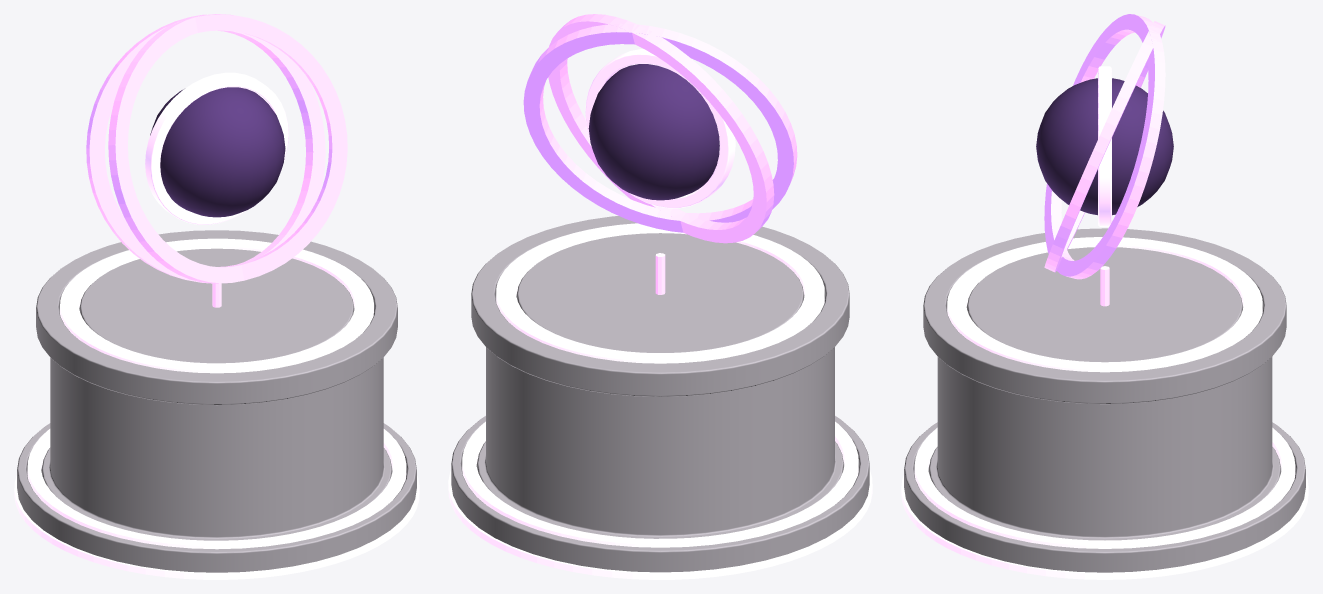
File: Lobby_PED_Gravity.fbx
3 renders of one model, left to right at view 1: azimuth 30°, elevation 25°; view 2: azimuth 150°, elevation 25°; view 3: azimuth 270°, elevation 25°, orthographic. The views are drawn at different scales.
Visible parts, largest first — view 1: PedestalMarble__Gravity, Glyph_GravityCore__Gravity, Glyph_GravityRing__GravityOrbit_1, Glyph_GravityRing__GravityOrbit_0, PedNeon_Gravity__Gravity_TopNeon, PedNeon_Gravity__Gravity_BaseNeon, Glyph_GravityHalo__GravityHalo, PedNeon_Gravity__Gravity_BaseNeonEdge; view 2: PedestalMarble__Gravity, Glyph_GravityCore__Gravity, Glyph_GravityRing__GravityOrbit_0, Glyph_GravityRing__GravityOrbit_1, PedNeon_Gravity__Gravity_TopNeon, PedNeon_Gravity__Gravity_BaseNeon, PedNeon_Gravity__Gravity_BaseNeonEdge, Glyph_GravityHalo__GravityHalo; view 3: PedestalMarble__Gravity, Glyph_GravityCore__Gravity, PedNeon_Gravity__Gravity_TopNeon, Glyph_GravityRing__GravityOrbit_0, PedNeon_Gravity__Gravity_BaseNeon, Glyph_GravityRing__GravityOrbit_1, PedNeon_Gravity__Gravity_BaseNeonEdge, Glyph_GravityHalo__GravityHalo.
Boxes of the visible parts, left/top/right/bottom form: PedestalMarble__Gravity: left=17, top=230, right=416, bottom=572; Glyph_GravityCore__Gravity: left=150, top=87, right=285, bottom=217; Glyph_GravityRing__GravityOrbit_1: left=86, top=14, right=347, bottom=283; Glyph_GravityRing__GravityOrbit_0: left=108, top=14, right=325, bottom=283; PedNeon_Gravity__Gravity_TopNeon: left=60, top=238, right=373, bottom=373; PedNeon_Gravity__Gravity_BaseNeon: left=27, top=429, right=406, bottom=549; Glyph_GravityHalo__GravityHalo: left=145, top=72, right=288, bottom=224; PedNeon_Gravity__Gravity_BaseNeonEdge: left=14, top=475, right=419, bottom=579; PedestalMarble__Gravity: left=451, top=216, right=869, bottom=572; Glyph_GravityCore__Gravity: left=588, top=64, right=719, bottom=200; Glyph_GravityRing__GravityOrbit_0: left=523, top=23, right=797, bottom=232; Glyph_GravityRing__GravityOrbit_1: left=548, top=14, right=774, bottom=243; PedNeon_Gravity__Gravity_TopNeon: left=496, top=223, right=824, bottom=363; PedNeon_Gravity__Gravity_BaseNeon: left=462, top=421, right=858, bottom=547; PedNeon_Gravity__Gravity_BaseNeonEdge: left=448, top=469, right=872, bottom=579; Glyph_GravityHalo__GravityHalo: left=585, top=49, right=735, bottom=208; PedestalMarble__Gravity: left=904, top=228, right=1305, bottom=572; Glyph_GravityCore__Gravity: left=1036, top=78, right=1173, bottom=215; PedNeon_Gravity__Gravity_TopNeon: left=947, top=237, right=1262, bottom=372; Glyph_GravityRing__GravityOrbit_0: left=1044, top=14, right=1165, bottom=279; PedNeon_Gravity__Gravity_BaseNeon: left=914, top=427, right=1295, bottom=548; Glyph_GravityRing__GravityOrbit_1: left=1044, top=21, right=1165, bottom=272; PedNeon_Gravity__Gravity_BaseNeonEdge: left=901, top=475, right=1308, bottom=579; Glyph_GravityHalo__GravityHalo: left=1098, top=66, right=1111, bottom=226.
Bounding box in the file's own units: 4.26 × 5.36 × 4.26.
